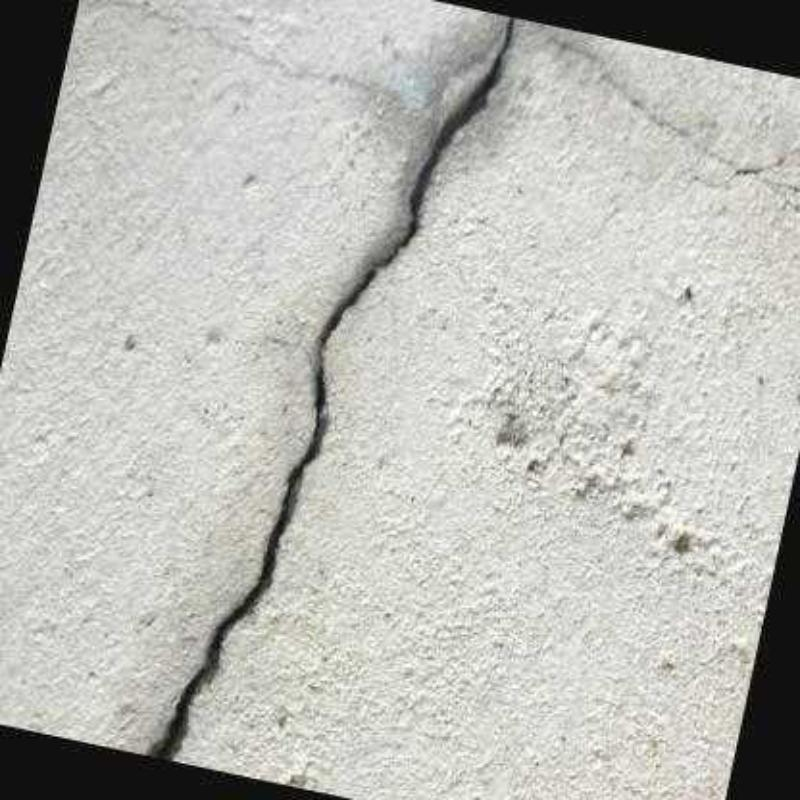pothole: (142, 12, 522, 761)
